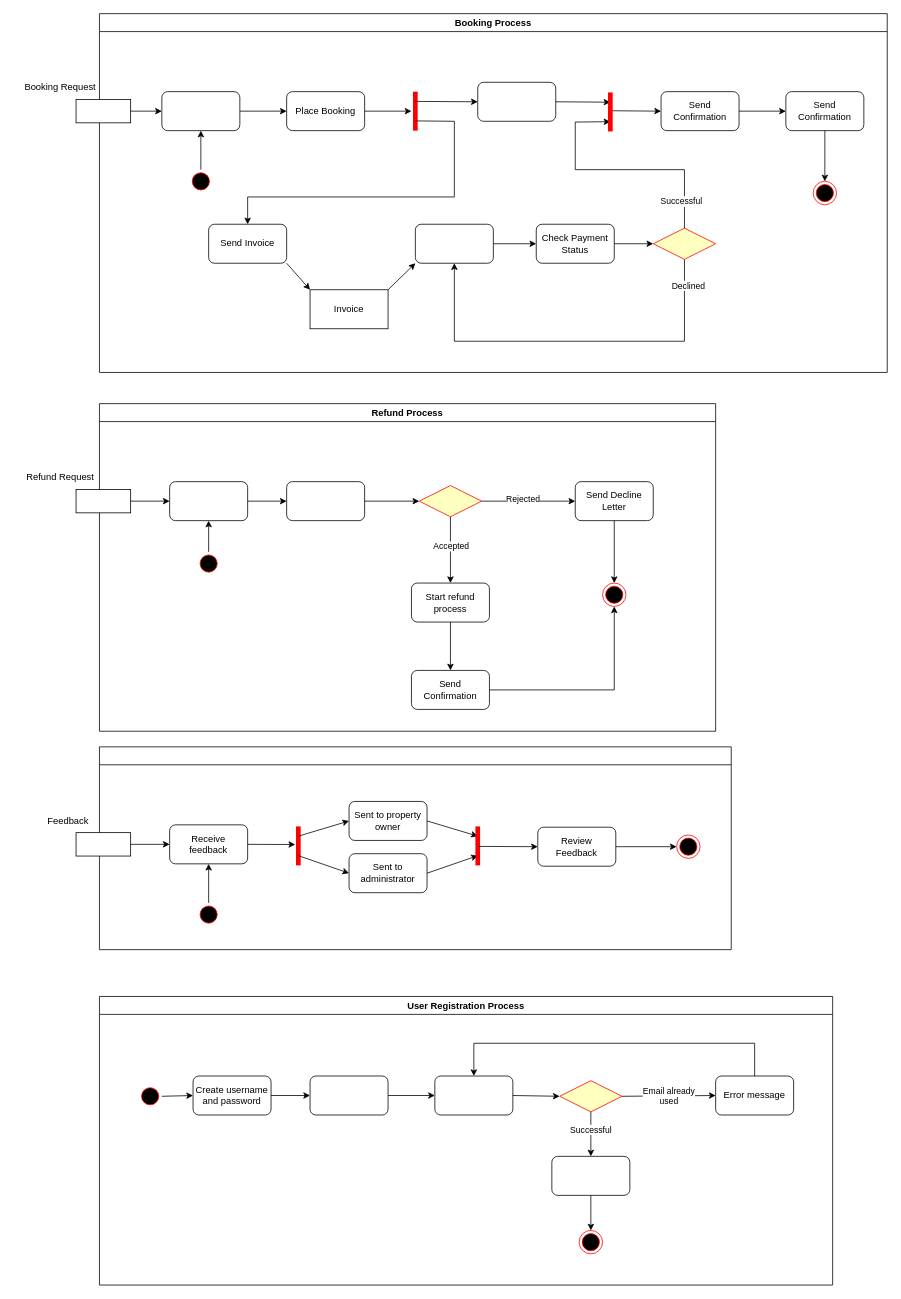
This 901x1299 diagram has some shape labels left out. Each missing label, with the box of its shape:
Create an account: (551, 1156, 630, 1195)
Enter email address: (434, 1075, 513, 1115)
Enter personal information: (309, 1075, 388, 1115)
Feedback Process: (99, 746, 731, 950)
Make Payment: (415, 223, 493, 263)
Process refund request: (286, 481, 365, 521)
Receive booking: (161, 91, 240, 131)
Receive refund request: (169, 481, 248, 521)
Reserve the property: (477, 82, 556, 121)
